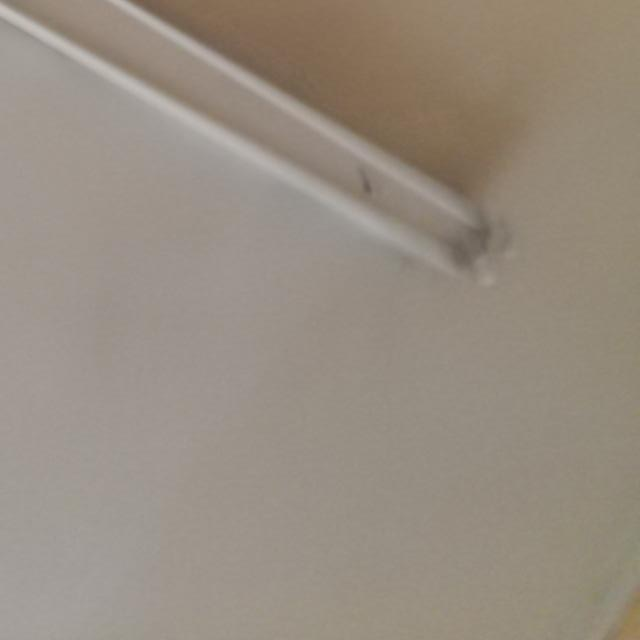fluorescent tube: (0, 0, 515, 319)
